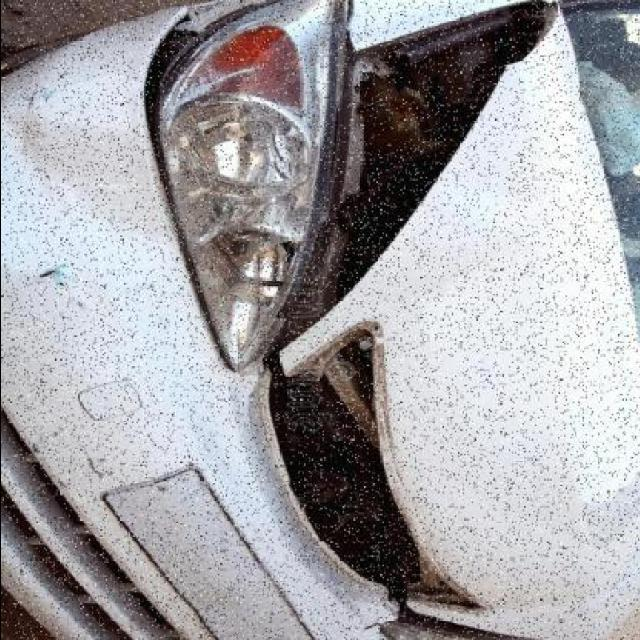front-bumper-dent: (2, 0, 184, 500)
roof-dent: (286, 39, 639, 639)
